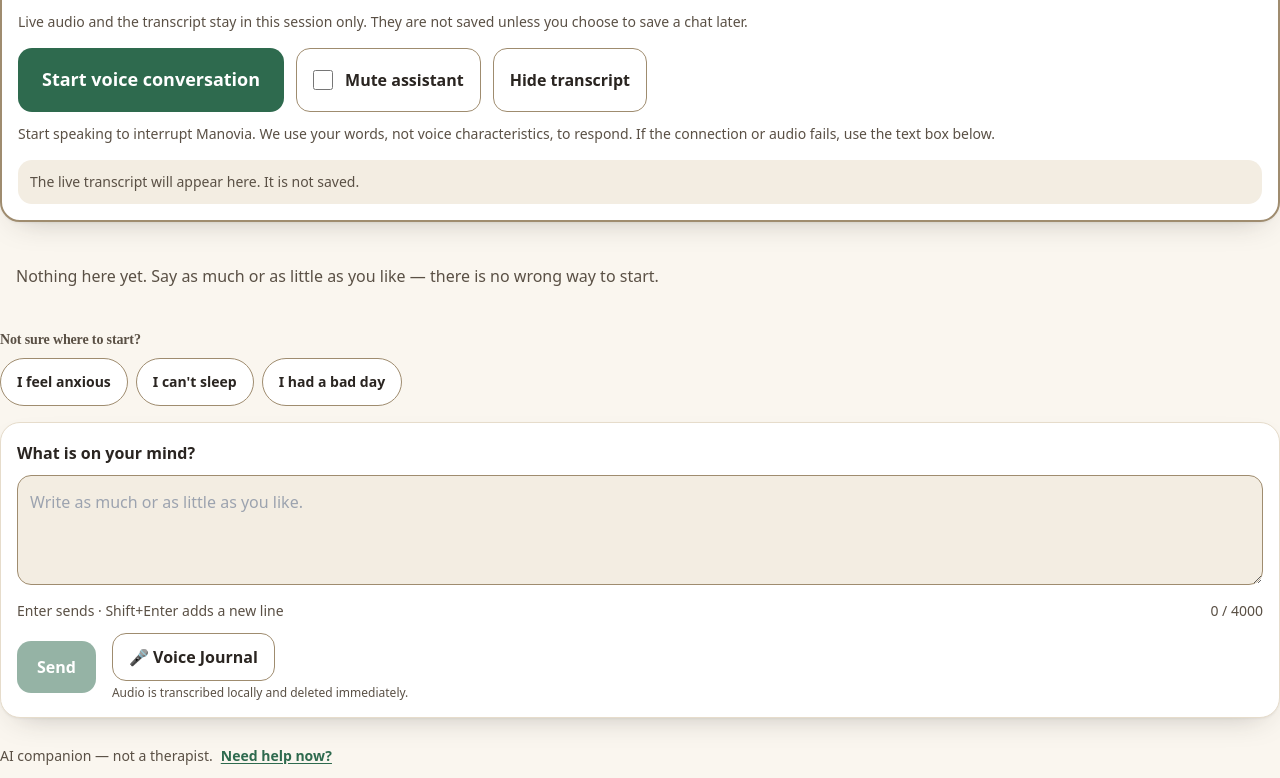
it: ChatView — streaming › keeps a partial reply and says it was cut off when the stream dies
(page scrolled)
Type "I had a bad day" into the text box labelled "What is on your mind?" at [640, 530], box left=17, top=474, right=1263, bottom=584
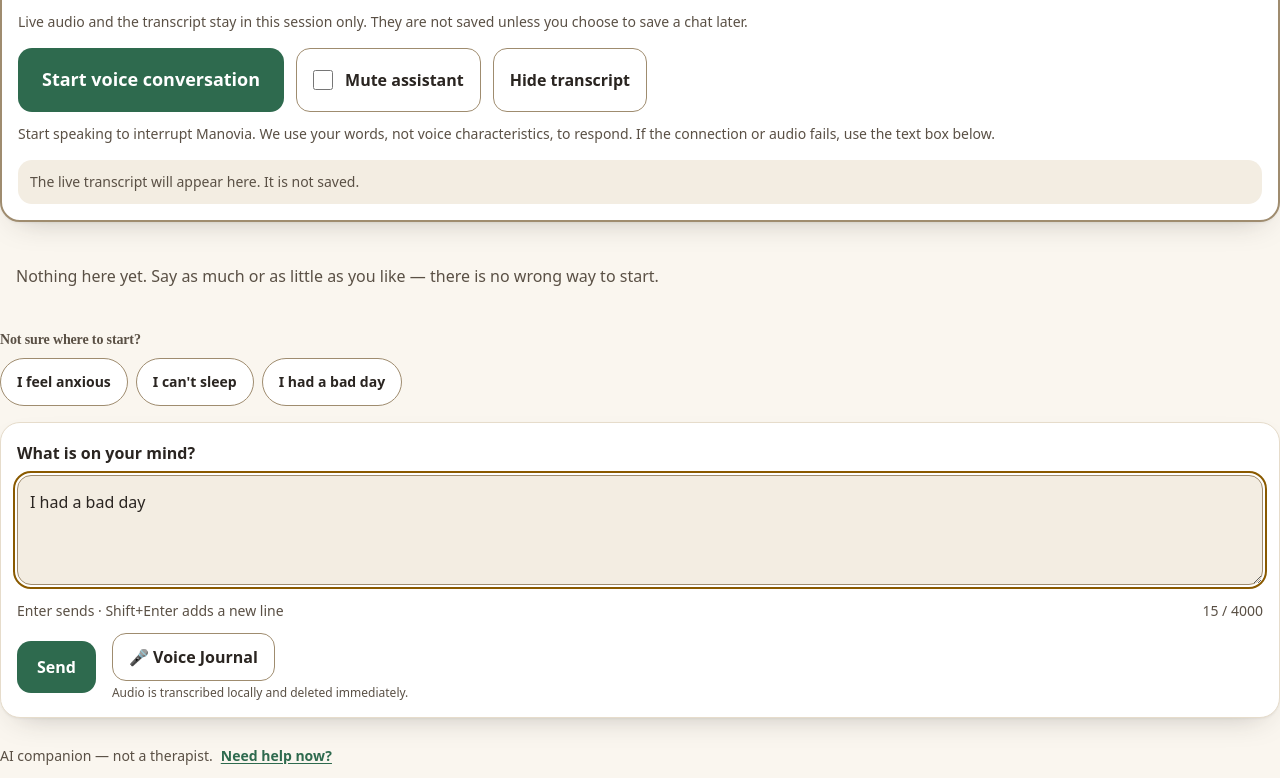
Click the button with test id "send-button" at [56, 666], box left=17, top=640, right=96, bottom=692
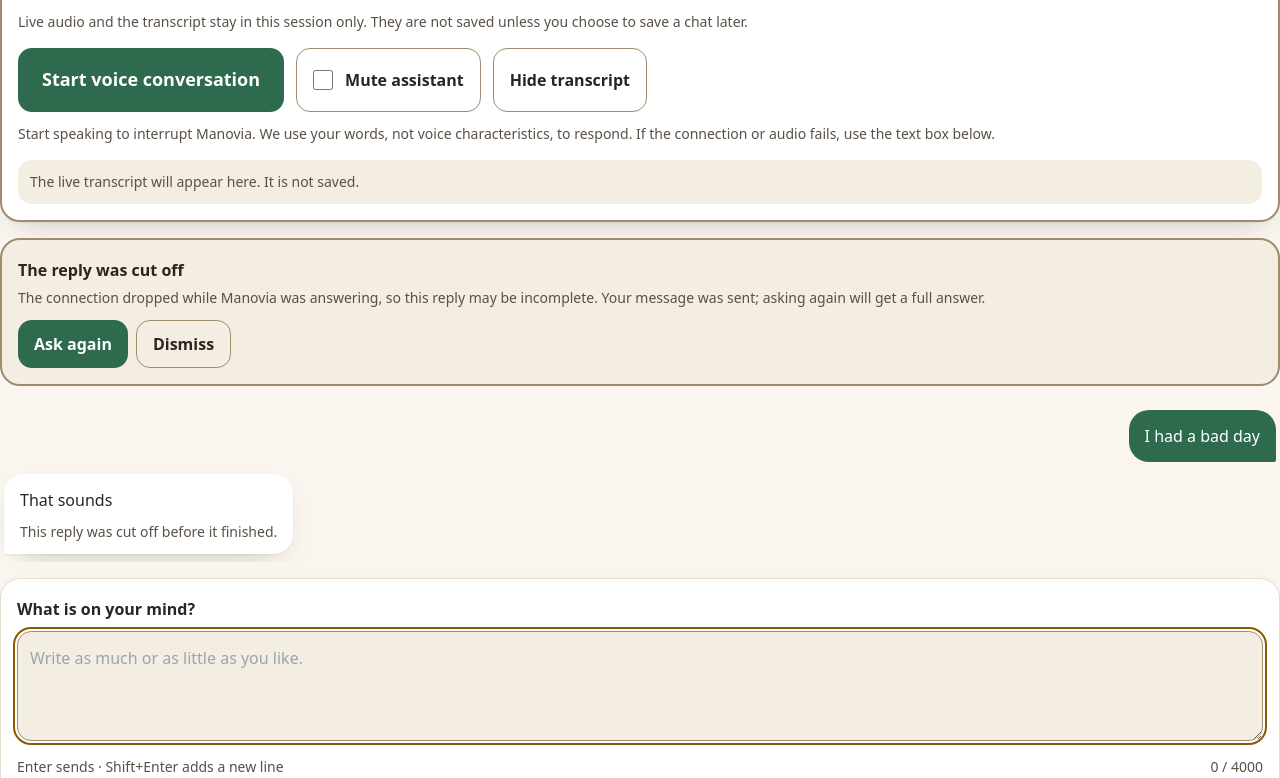
Check: the message with test id "chat-error" shows "The reply was cut off", box left=18, top=258, right=184, bottom=280
Check: the text "This reply was cut off before it finished." is shown, box left=20, top=522, right=277, bottom=542
Check: the button with test id "chat-error-action" reads "Ask again", box left=18, top=320, right=128, bottom=368
